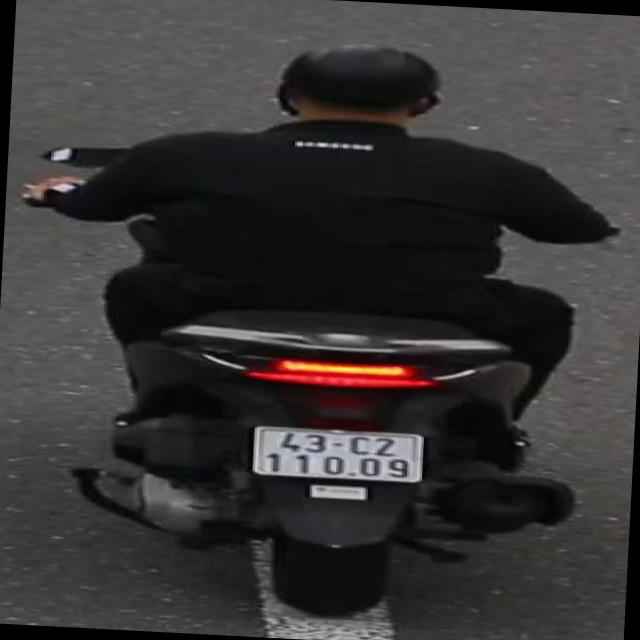LP: (238, 417, 439, 490)
helmet: (251, 32, 461, 149)
